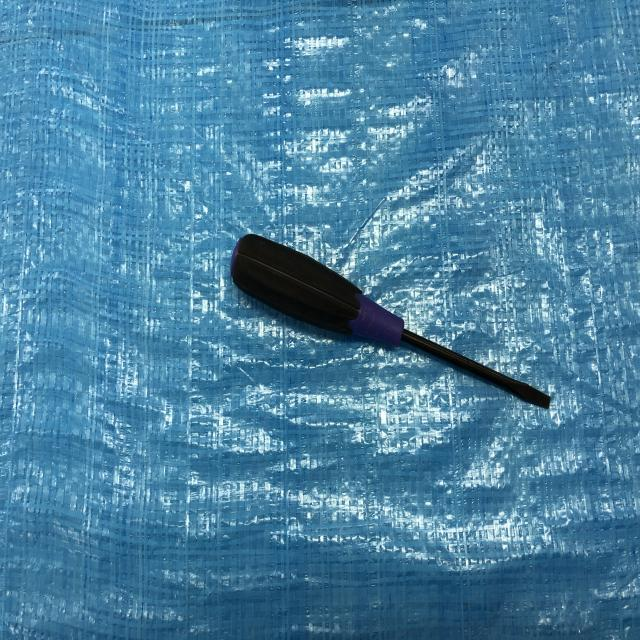screwdriver: (226, 230, 553, 412)
